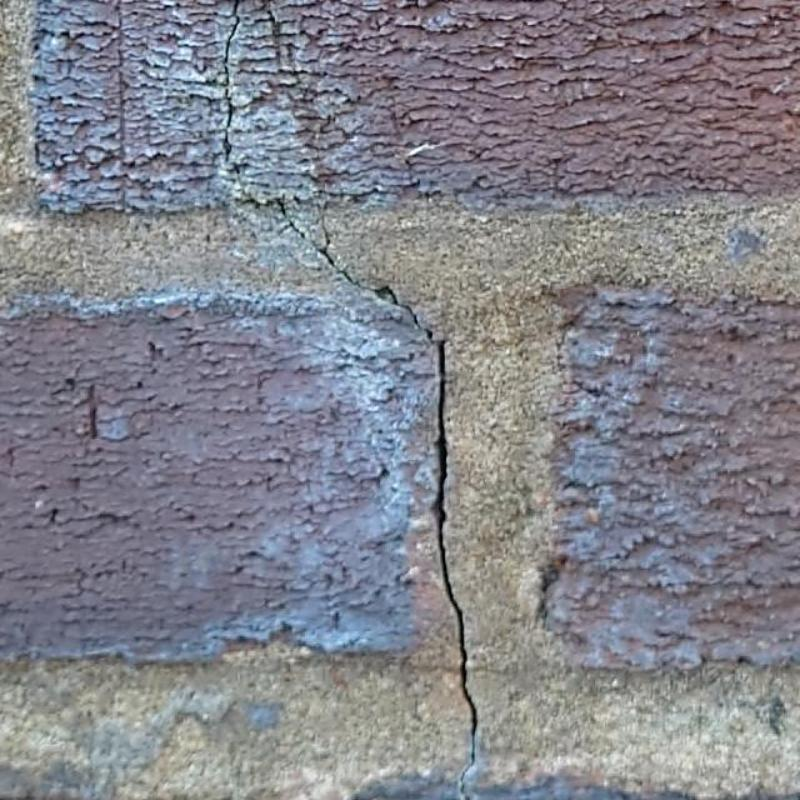pothole: (316, 236, 479, 800), (223, 0, 241, 162), (238, 197, 287, 216), (276, 221, 306, 239)
